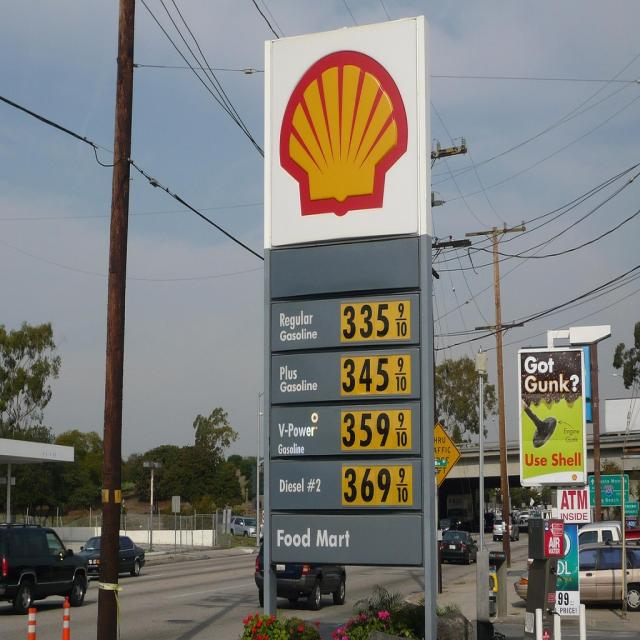shell: (278, 50, 411, 221)
